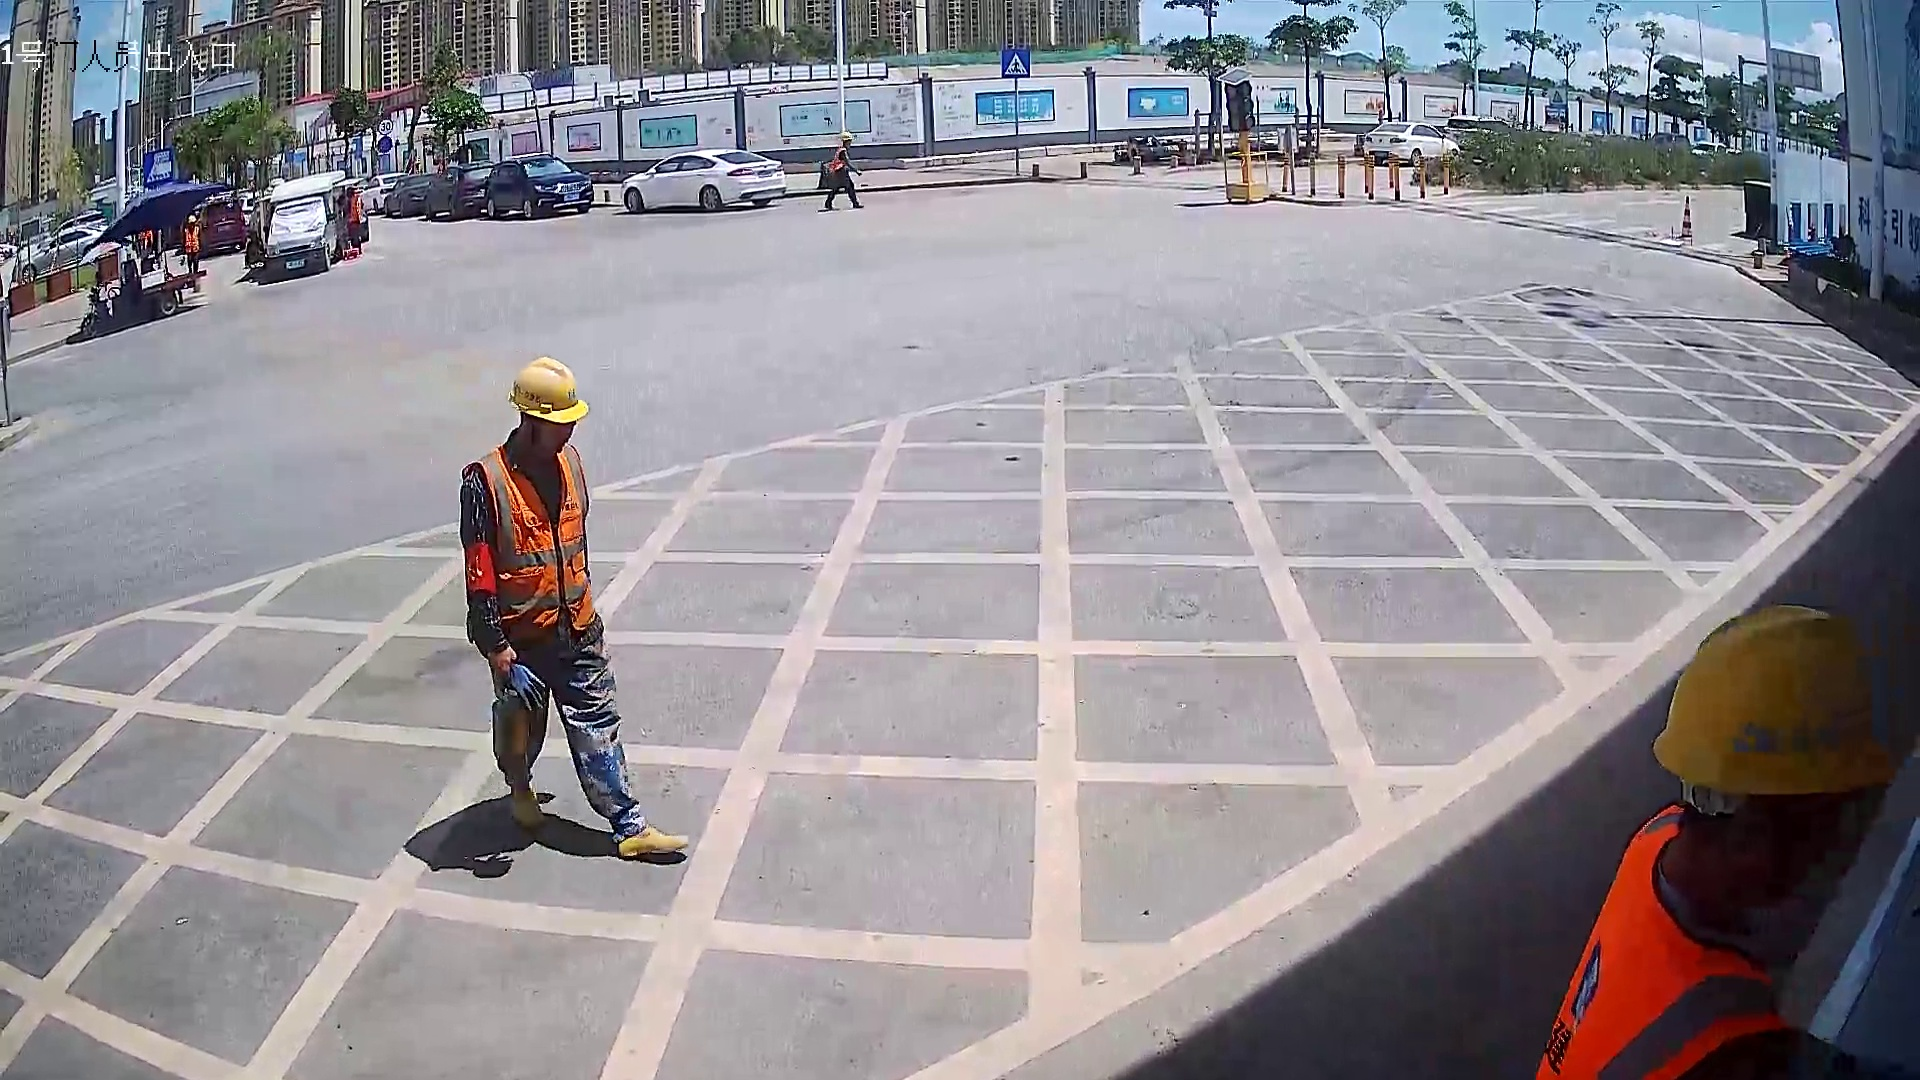person: (454, 352, 695, 863)
reflective_vest: (1513, 801, 1790, 1080), (459, 440, 604, 642)
safety_helmet: (1651, 598, 1900, 918), (506, 352, 590, 458)
